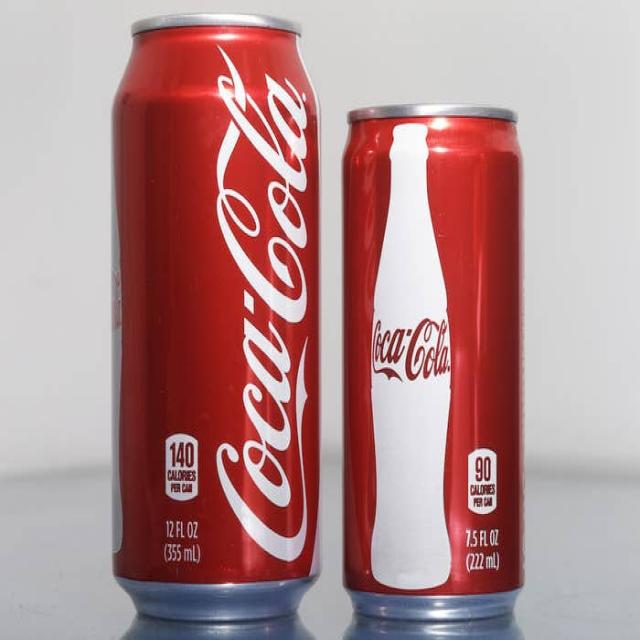cocacola: (110, 8, 324, 624), (339, 99, 532, 624)
